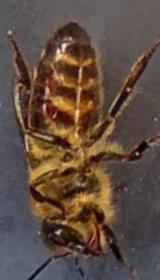varroa_mite: (32, 86, 64, 128)
